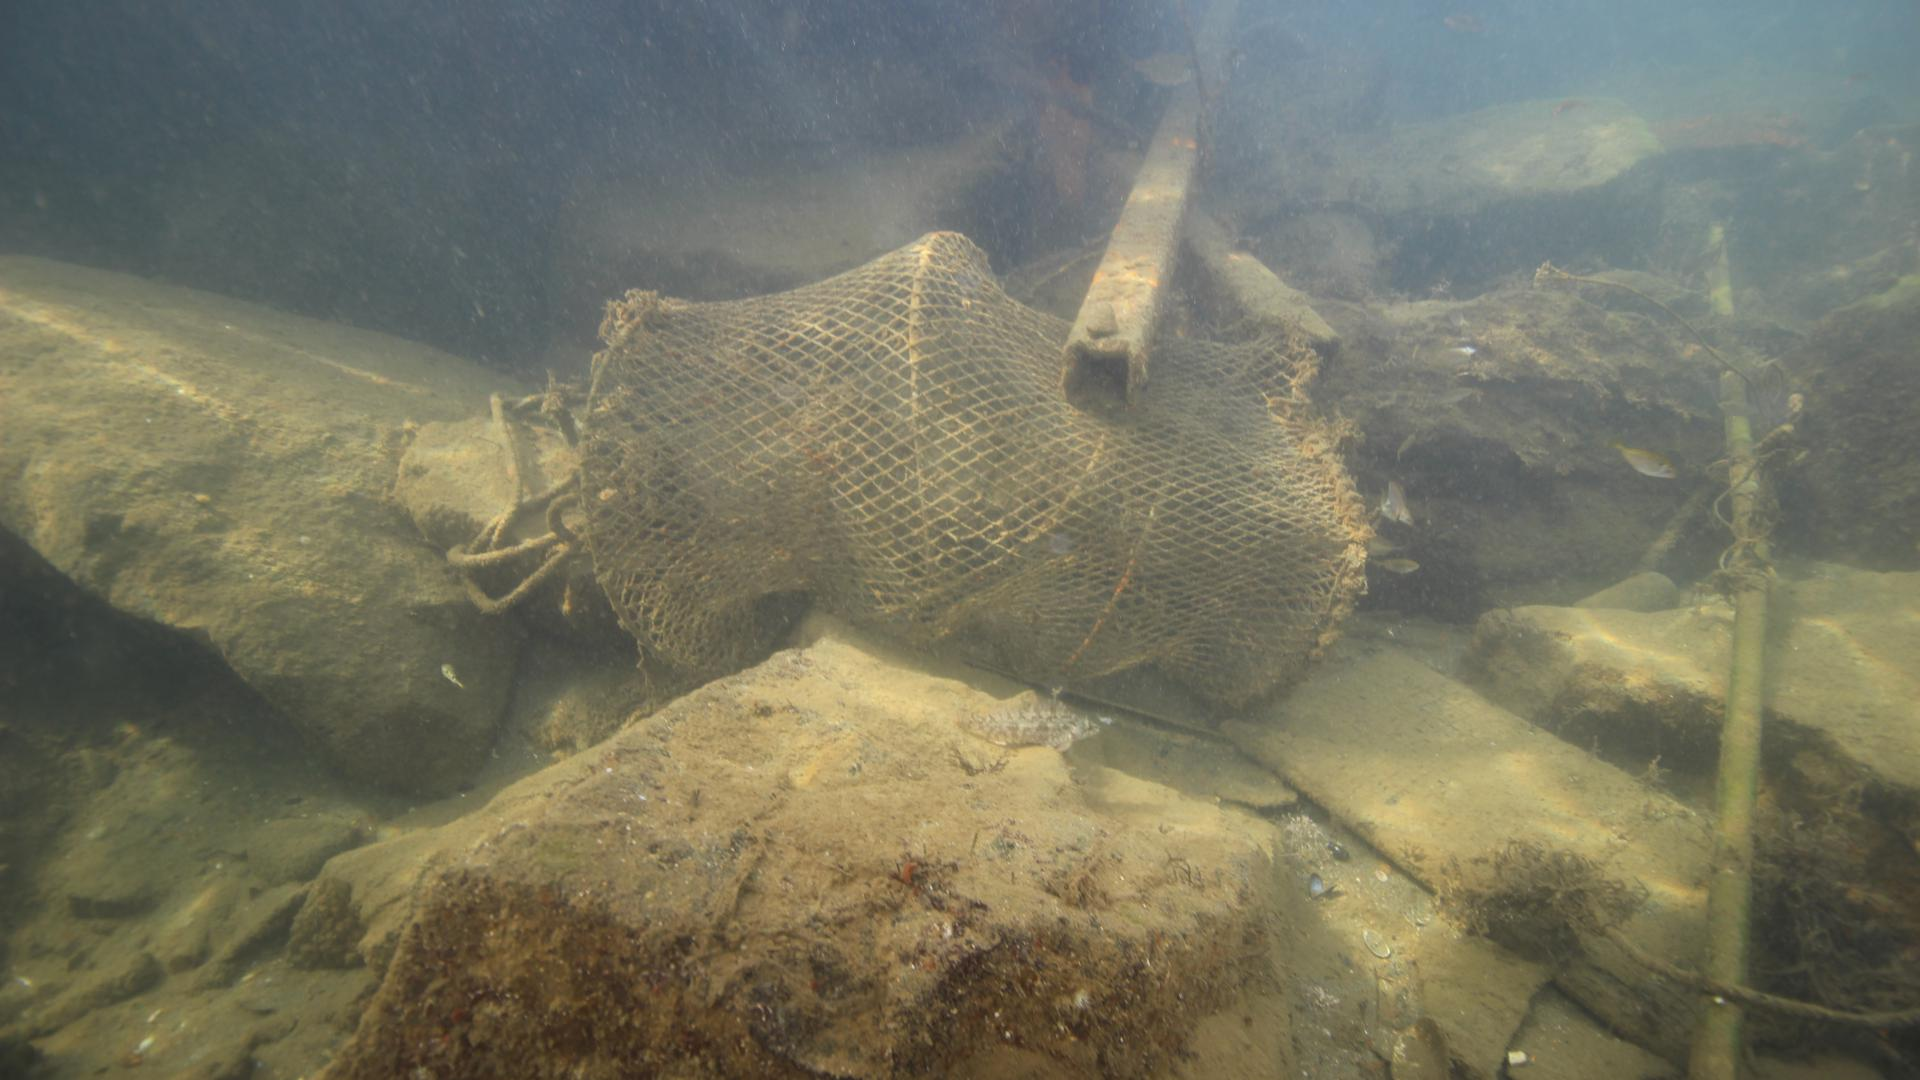bundle of ropes: (443, 385, 585, 616)
spring fish trap: (568, 227, 1374, 728)
